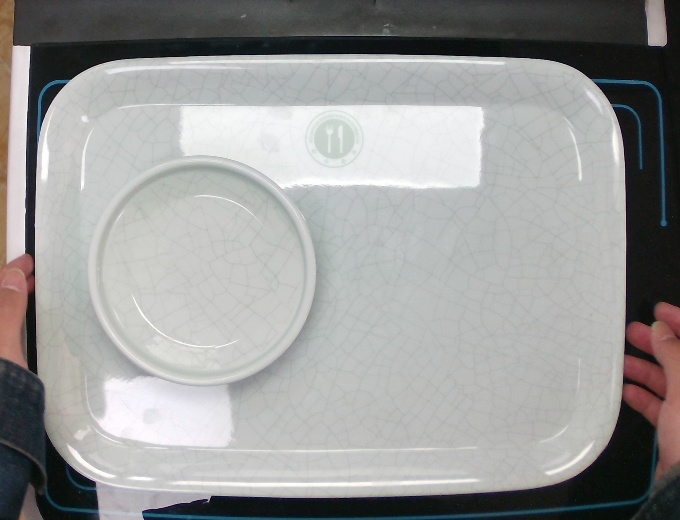JYsf-Xiao_Yuan_Pan: (85, 153, 320, 390)
